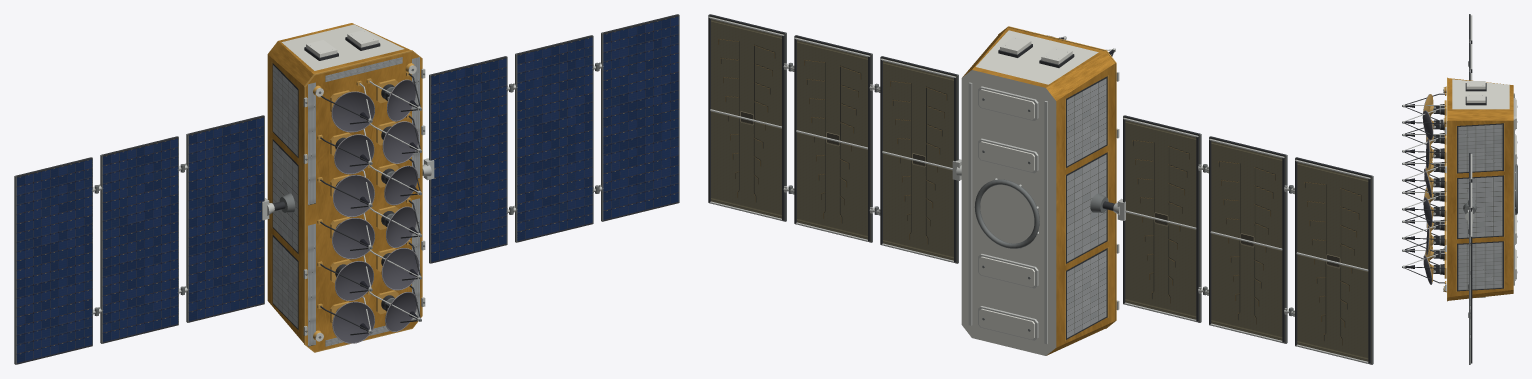
3 renders of one model, left to right at view 1: azimuth 30°, elevation 25°; view 2: azimuth 150°, elevation 25°; view 3: azimuth 270°, elevation 25°, orthographic. The views are drawn at different scales.
Visible parts, largest first — view 1: Hinged solar panel - Cobalt photovoltaic cells (×6), Tapered ELiTeBus and thermal blankets - Gold multilayer insu, Steerable parabolic dish - Graphite reflector surface (×12), Tapered ELiTeBus and thermal blankets - Silver thermal mirro, Hinged solar panel - Titanium gimbal pivots (×6), End bulkheads service boxes and sensors - White thermal coat, Tapered ELiTeBus and thermal blankets - Gold blanket retenti, Tapered ELiTeBus and thermal blankets - Carbon composite str; view 2: Hinged solar panel - Solar panel reverse wiring (×6), Tapered ELiTeBus and thermal blankets - White thermal coatin, Tapered ELiTeBus and thermal blankets - Silver thermal mirro, Tapered ELiTeBus and thermal blankets - Gold multilayer insu, Hinged solar panel - Carbon composite structure (×6), Anti-Earth equipment panel and launch adapter - White therma, Anti-Earth equipment panel and launch adapter - Satin alumin, Hinged solar panel - Satin aluminium fittings (×6), End bulkheads service boxes and sensors - White thermal coat, Hinged solar panel - Titanium gimbal pivots (×4), Anti-Earth equipment panel and launch adapter - Titanium gim, Tapered ELiTeBus and thermal blankets - Gold blanket retenti (+1 smaller); view 3: Tapered ELiTeBus and thermal blankets - Silver thermal mirro, Tapered ELiTeBus and thermal blankets - Gold multilayer insu, End bulkheads service boxes and sensors - White thermal coat, Tapered ELiTeBus and thermal blankets - Carbon composite str, Deck-mounted feed tripod - Carbon composite structure (×6), Tapered ELiTeBus and thermal blankets - Gold blanket retenti, Anti-Earth equipment panel and launch adapter - Satin alumin, Steerable parabolic dish - Graphite reflector surface (×3), Hinged solar panel - Carbon composite structure, Hinged solar panel - Titanium gimbal pivots, Hinged solar panel - Satin aluminium fittings (×2), Anti-Earth equipment panel and launch adapter - White therma (+4 smaller).
Boxes of the visible parts, left/top/right/bottom form: Hinged solar panel - Cobalt photovoltaic cells (×6): left=16, top=16, right=678, bottom=363; Tapered ELiTeBus and thermal blankets - Gold multilayer insu: left=267, top=23, right=421, bottom=351; Steerable parabolic dish - Graphite reflector surface (×12): left=331, top=80, right=419, bottom=343; Tapered ELiTeBus and thermal blankets - Silver thermal mirro: left=273, top=57, right=419, bottom=346; Hinged solar panel - Titanium gimbal pivots (×6): left=14, top=14, right=679, bottom=364; End bulkheads service boxes and sensors - White thermal coat: left=281, top=24, right=416, bottom=341; Tapered ELiTeBus and thermal blankets - Gold blanket retenti: left=271, top=50, right=422, bottom=352; Tapered ELiTeBus and thermal blankets - Carbon composite str: left=272, top=63, right=298, bottom=329; Hinged solar panel - Solar panel reverse wiring (×6): left=710, top=16, right=1371, bottom=363; Tapered ELiTeBus and thermal blankets - White thermal coatin: left=961, top=70, right=1056, bottom=355; Tapered ELiTeBus and thermal blankets - Silver thermal mirro: left=1067, top=78, right=1106, bottom=338; Tapered ELiTeBus and thermal blankets - Gold multilayer insu: left=962, top=27, right=1115, bottom=355; Hinged solar panel - Carbon composite structure (×6): left=708, top=14, right=1371, bottom=364; Anti-Earth equipment panel and launch adapter - White therma: left=979, top=89, right=1034, bottom=339; Anti-Earth equipment panel and launch adapter - Satin alumin: left=968, top=82, right=1047, bottom=344; Hinged solar panel - Satin aluminium fittings (×6): left=708, top=16, right=1370, bottom=364; End bulkheads service boxes and sensors - White thermal coat: left=976, top=30, right=1098, bottom=84; Hinged solar panel - Titanium gimbal pivots (×4): left=708, top=14, right=1373, bottom=364; Anti-Earth equipment panel and launch adapter - Titanium gim: left=974, top=98, right=1039, bottom=331; Tapered ELiTeBus and thermal blankets - Gold blanket retenti: left=998, top=26, right=1116, bottom=341; Tapered ELiTeBus and thermal blankets - Silver thermal mirro: left=1458, top=124, right=1502, bottom=290; Tapered ELiTeBus and thermal blankets - Gold multilayer insu: left=1448, top=78, right=1513, bottom=300; End bulkheads service boxes and sensors - White thermal coat: left=1443, top=79, right=1509, bottom=297; Tapered ELiTeBus and thermal blankets - Carbon composite str: left=1457, top=123, right=1503, bottom=291; Deck-mounted feed tripod - Carbon composite structure (×6): left=1404, top=122, right=1444, bottom=283; Tapered ELiTeBus and thermal blankets - Gold blanket retenti: left=1447, top=77, right=1504, bottom=301; Anti-Earth equipment panel and launch adapter - Satin alumin: left=1513, top=93, right=1515, bottom=285; Steerable parabolic dish - Graphite reflector surface (×3): left=1422, top=111, right=1432, bottom=284; Hinged solar panel - Carbon composite structure: left=1469, top=210, right=1472, bottom=363; Hinged solar panel - Titanium gimbal pivots: left=1469, top=210, right=1470, bottom=364; Hinged solar panel - Satin aluminium fittings (×2): left=1470, top=182, right=1472, bottom=363; Anti-Earth equipment panel and launch adapter - White therma: left=1515, top=99, right=1516, bottom=279.
Size of the model in its own units: 7.72 by 3.2 by 1.7.
14 materials, 4 textured.
